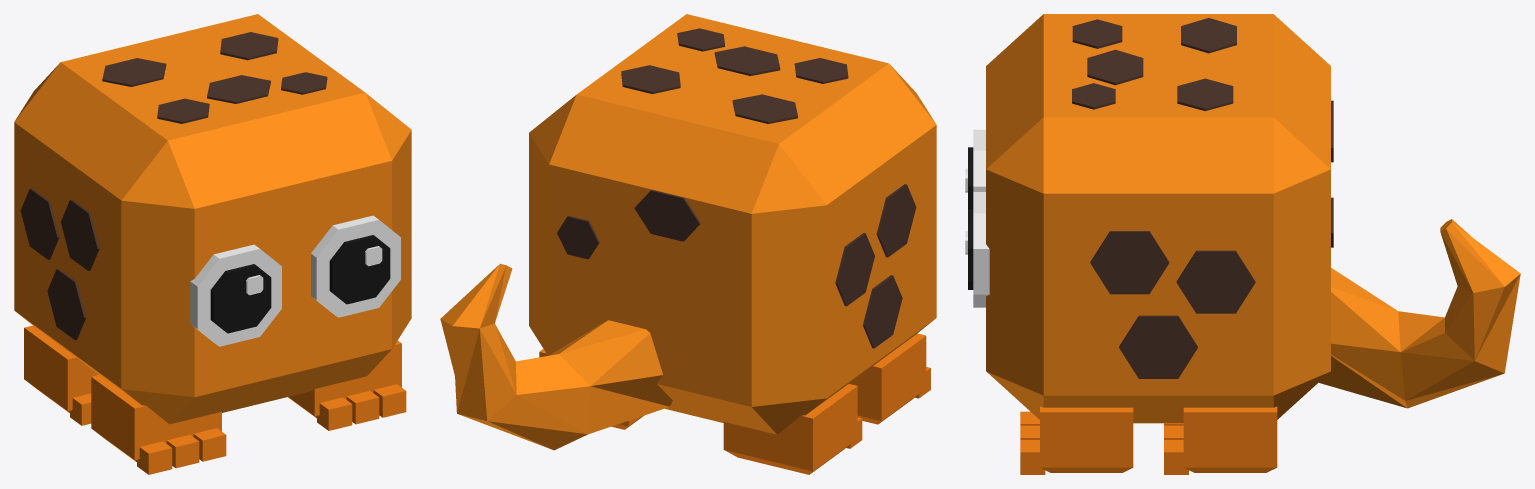
Rendered from Salamander.fbx.
The picture shows the model from 3 angles, left to right: view 1: azimuth 30°, elevation 25°; view 2: azimuth 150°, elevation 25°; view 3: azimuth 270°, elevation 25°; orthographic projection. The views are drawn at different scales.
Parts seen in each view (by area): view 1: Salamander, Salamander_Legs, Salamander_Spots, Salamander_Eyes, Salamander_Pupils; view 2: Salamander, Salamander_Tail, Salamander_Spots, Salamander_Legs; view 3: Salamander, Salamander_Tail, Salamander_Spots, Salamander_Legs, Salamander_Eyes, Salamander_Pupils.
Boxes of the visible parts, bbox=[...] form: Salamander: bbox=[14, 14, 411, 424]; Salamander_Legs: bbox=[24, 325, 406, 474]; Salamander_Spots: bbox=[20, 32, 327, 340]; Salamander_Eyes: bbox=[190, 215, 400, 346]; Salamander_Pupils: bbox=[210, 235, 390, 333]; Salamander: bbox=[529, 14, 936, 434]; Salamander_Tail: bbox=[440, 263, 672, 450]; Salamander_Spots: bbox=[557, 28, 916, 348]; Salamander_Legs: bbox=[539, 333, 930, 474]; Salamander: bbox=[986, 14, 1330, 423]; Salamander_Tail: bbox=[1318, 219, 1520, 408]; Salamander_Spots: bbox=[1072, 18, 1333, 378]; Salamander_Legs: bbox=[1020, 406, 1277, 474]; Salamander_Eyes: bbox=[965, 129, 989, 307]; Salamander_Pupils: bbox=[968, 147, 973, 289].
Bounding box in the file's own units: 2.03 × 2.11 × 3.09.
